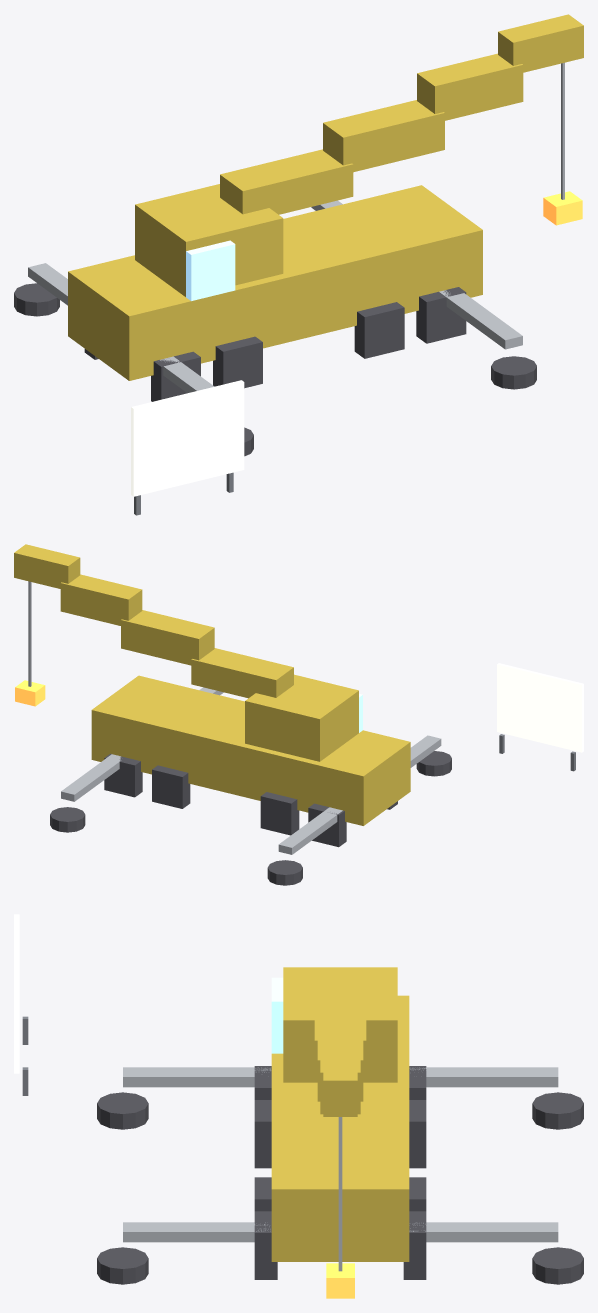
File: wing-robot-load-chart.glb
The picture shows the model from 3 angles, top to bottom: view 1: azimuth 30°, elevation 25°; view 2: azimuth 150°, elevation 25°; view 3: azimuth 270°, elevation 25°; orthographic projection. The views are drawn at different scales.
Parts seen in each view (by area): view 1: Robot · mobile crane; view 2: Robot · mobile crane; view 3: Robot · mobile crane.
Boxes of the visible parts, x1,y1,x2,y2 form: Robot · mobile crane: (14, 14, 583, 515); Robot · mobile crane: (14, 544, 583, 885); Robot · mobile crane: (14, 914, 583, 1298).
Bounding box in the file's own units: 13.3 × 5.4 × 9.95.
